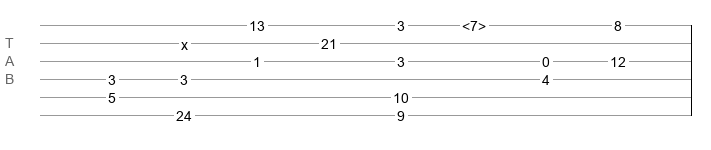0: (542, 54, 550, 64)
1: (253, 54, 261, 64)
10: (393, 90, 409, 100)
12: (610, 54, 626, 64)
13: (249, 18, 265, 28)
21: (321, 36, 337, 46)
24: (176, 108, 192, 118)
3: (108, 72, 116, 82), (180, 72, 188, 82), (397, 18, 405, 28), (397, 54, 405, 64)
4: (542, 72, 550, 82)
5: (108, 90, 116, 100)
8: (614, 18, 622, 28)
9: (397, 108, 405, 118)
harmonic: (462, 18, 486, 28)
x: (181, 37, 188, 45)
